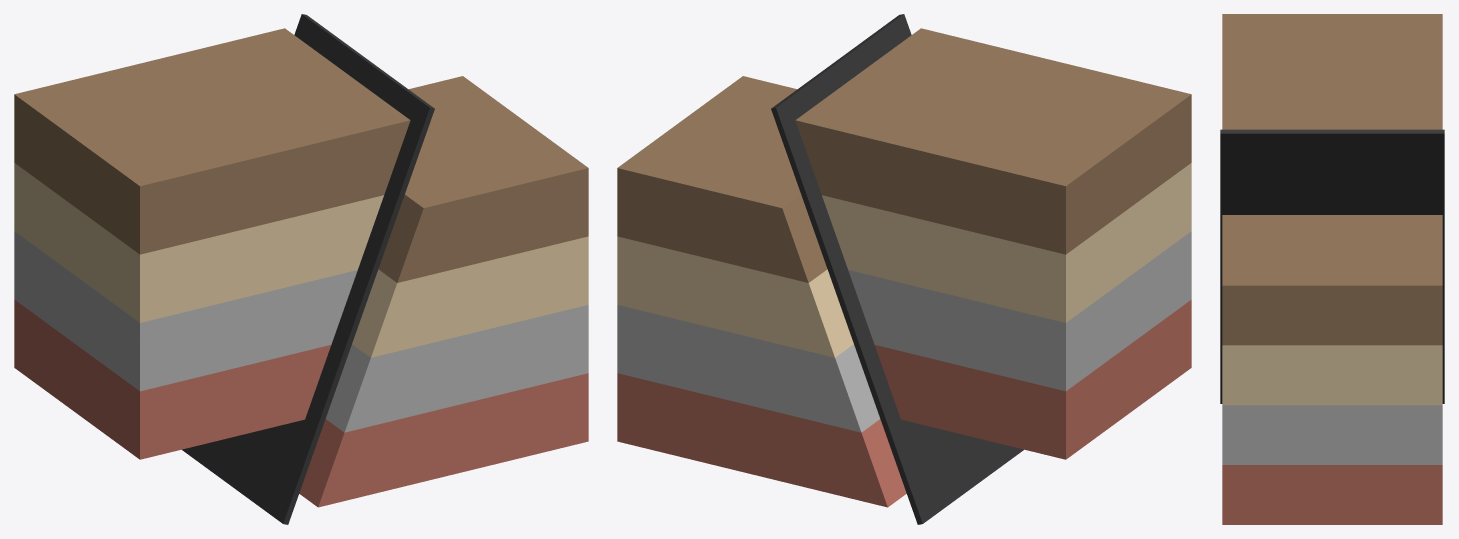
File: FaultBlockDiagram_Q4W1.glb
3 renders of one model, left to right at view 1: azimuth 30°, elevation 25°; view 2: azimuth 150°, elevation 25°; view 3: azimuth 270°, elevation 25°, orthographic. The views are drawn at different scales.
Parts seen in each view (by area): view 1: Layer_Brown_Foot, Layer_Brown_Hanging, Layer_Tan_Foot, Layer_Gray_Foot, Layer_Reddish_Foot, Layer_Reddish_Hanging, Layer_Gray_Hanging, FaultLine_Indicator, Layer_Tan_Hanging; view 2: Layer_Brown_Foot, Layer_Brown_Hanging, Layer_Tan_Foot, Layer_Gray_Foot, Layer_Reddish_Foot, Layer_Reddish_Hanging, Layer_Gray_Hanging, FaultLine_Indicator, Layer_Tan_Hanging; view 3: Layer_Brown_Hanging, Layer_Brown_Foot, FaultLine_Indicator, Layer_Tan_Hanging, Layer_Gray_Hanging, Layer_Reddish_Hanging.
Part boxes in pixels (left/top/right/bottom): Layer_Brown_Foot: left=14, top=28, right=410, bottom=254; Layer_Brown_Hanging: left=378, top=76, right=588, bottom=282; Layer_Tan_Foot: left=14, top=163, right=383, bottom=322; Layer_Gray_Foot: left=14, top=231, right=357, bottom=391; Layer_Reddish_Foot: left=14, top=299, right=331, bottom=459; Layer_Reddish_Hanging: left=299, top=373, right=588, bottom=507; Layer_Gray_Hanging: left=325, top=305, right=588, bottom=432; FaultLine_Indicator: left=182, top=14, right=434, bottom=524; Layer_Tan_Hanging: left=352, top=236, right=588, bottom=357; Layer_Brown_Foot: left=795, top=28, right=1191, bottom=254; Layer_Brown_Hanging: left=617, top=76, right=827, bottom=282; Layer_Tan_Foot: left=822, top=163, right=1191, bottom=322; Layer_Gray_Foot: left=848, top=231, right=1191, bottom=391; Layer_Reddish_Foot: left=874, top=299, right=1191, bottom=459; Layer_Reddish_Hanging: left=617, top=373, right=906, bottom=507; Layer_Gray_Hanging: left=617, top=305, right=880, bottom=432; FaultLine_Indicator: left=771, top=14, right=1023, bottom=524; Layer_Tan_Hanging: left=617, top=236, right=853, bottom=357; Layer_Brown_Hanging: left=1222, top=215, right=1442, bottom=345; Layer_Brown_Foot: left=1222, top=14, right=1442, bottom=129; FaultLine_Indicator: left=1220, top=129, right=1444, bottom=403; Layer_Tan_Hanging: left=1222, top=345, right=1442, bottom=405; Layer_Gray_Hanging: left=1222, top=405, right=1442, bottom=464; Layer_Reddish_Hanging: left=1222, top=465, right=1442, bottom=524.
Size of the model in its own units: 0.35 by 0.2851 by 0.1733.
